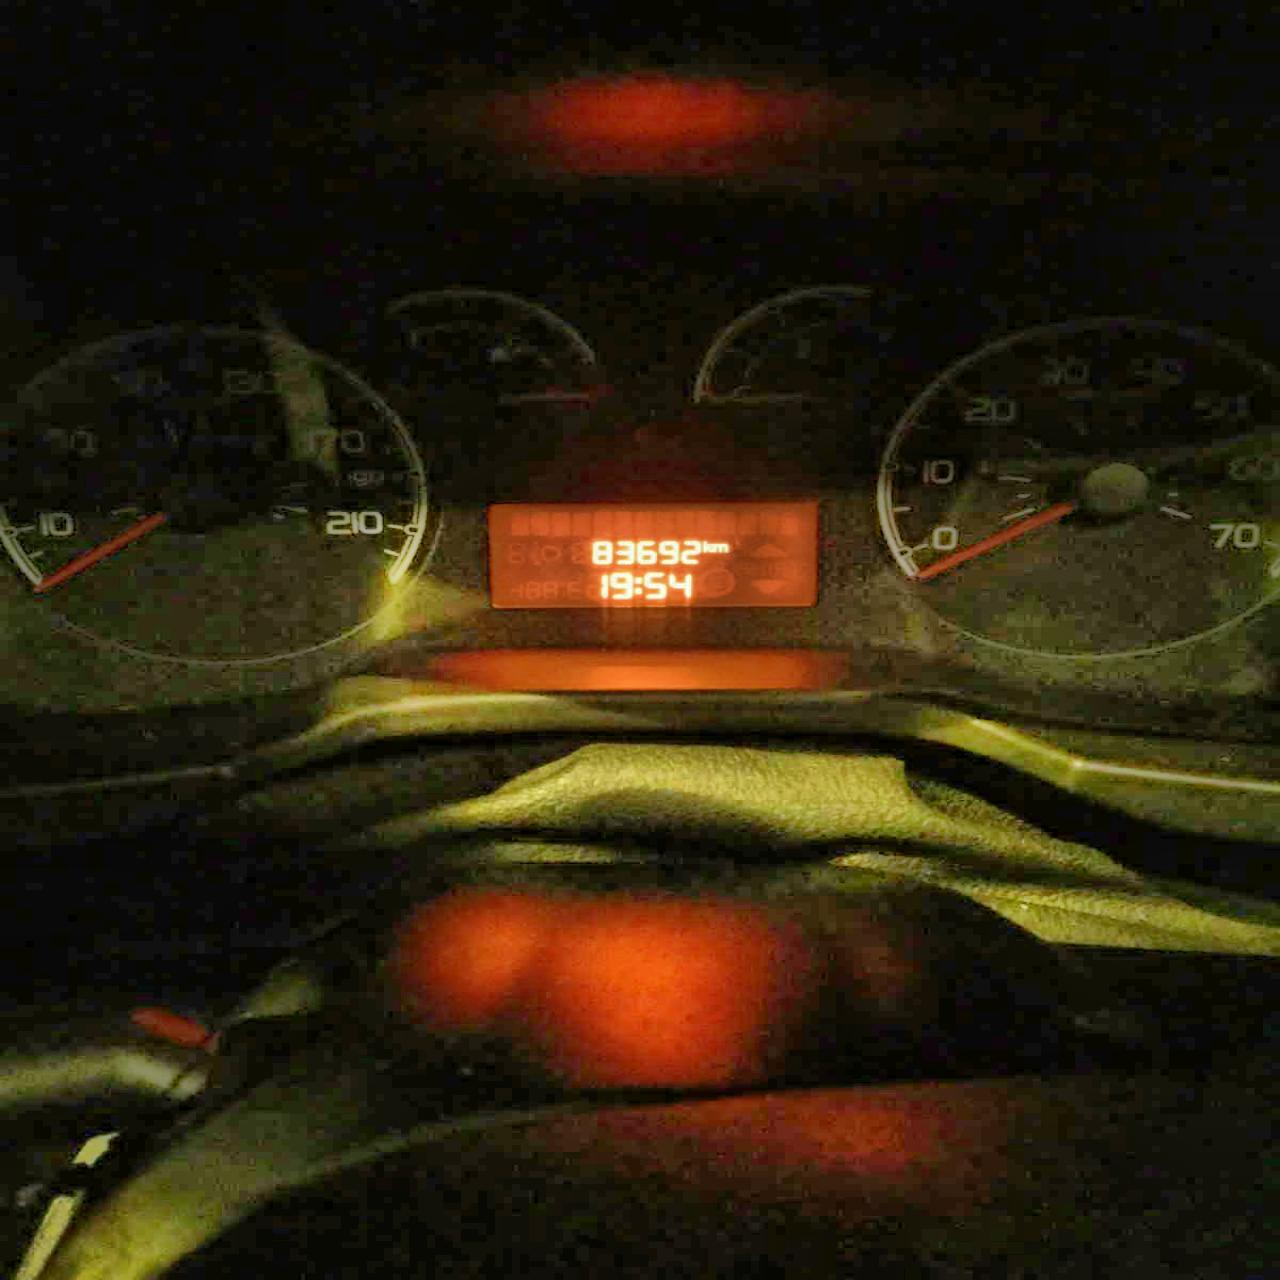1: (598, 573, 608, 599)
2: (679, 539, 701, 564)
3: (613, 540, 635, 564)
4: (667, 572, 693, 598)
5: (642, 572, 667, 599)
6: (635, 539, 658, 564)
8: (590, 540, 612, 564)
9: (610, 571, 634, 599), (658, 539, 680, 565)
X: (633, 576, 642, 594), (713, 542, 729, 552), (702, 539, 713, 553)
odometer: (483, 498, 822, 612)
